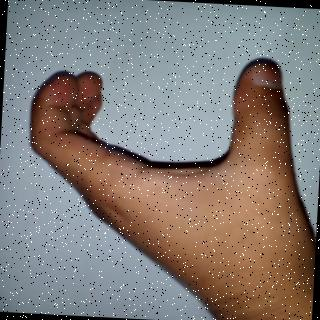C: (16, 42, 299, 292)
